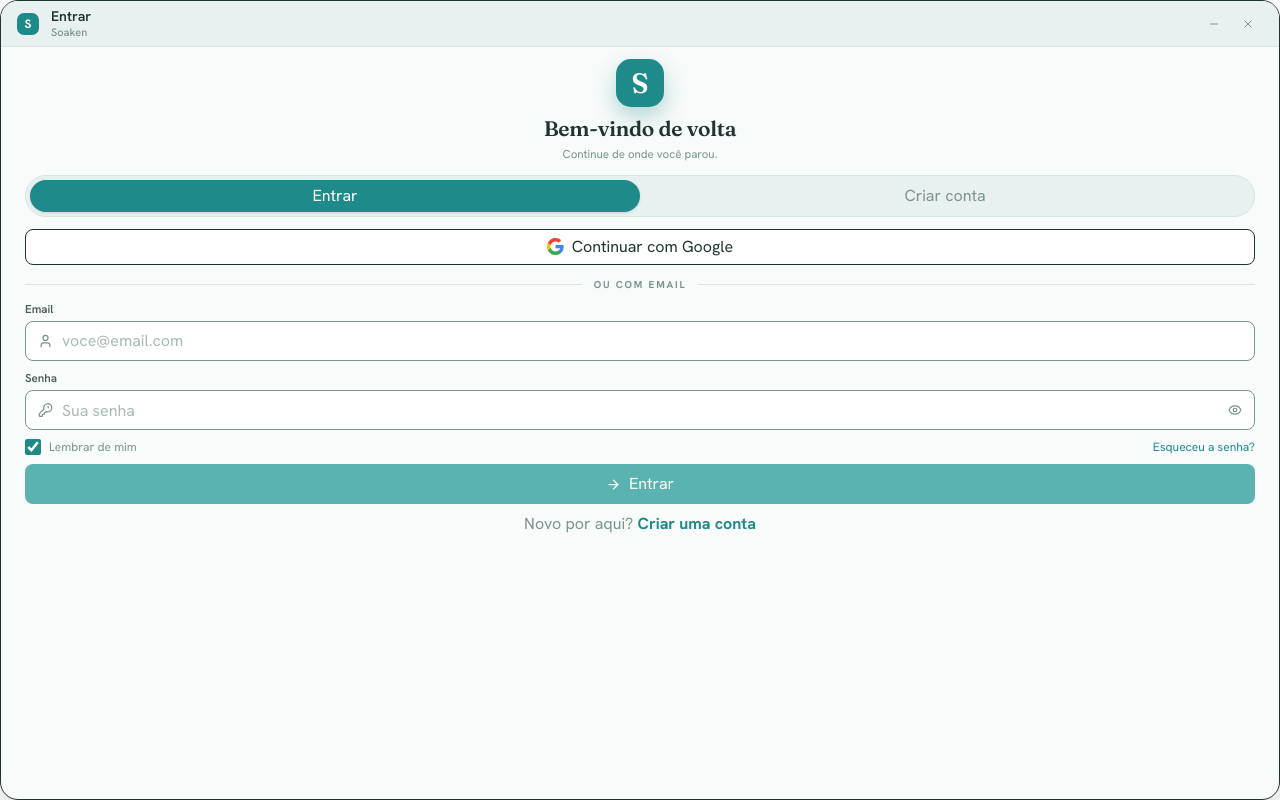
Test: Auth window › cadastro com confirmacao de email nao abre o app antes da confirmacao
This screenshot has width=1280, height=800.
Click the button "Criar conta" at (945, 196), box x1=640 y1=180 x2=1250 y2=212
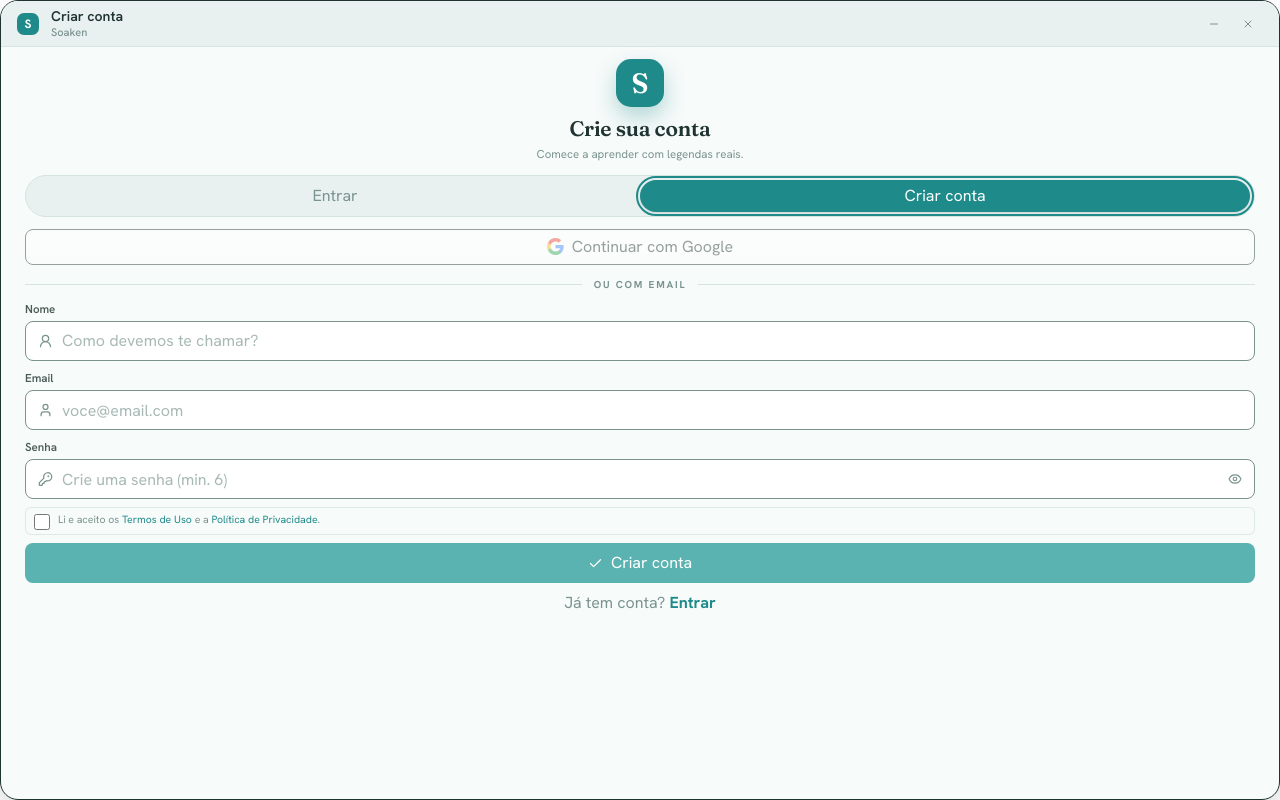
Type "  Joel  " into the field with placeholder "Como devemos te chamar?" at (640, 341), box x1=26 y1=322 x2=1254 y2=360
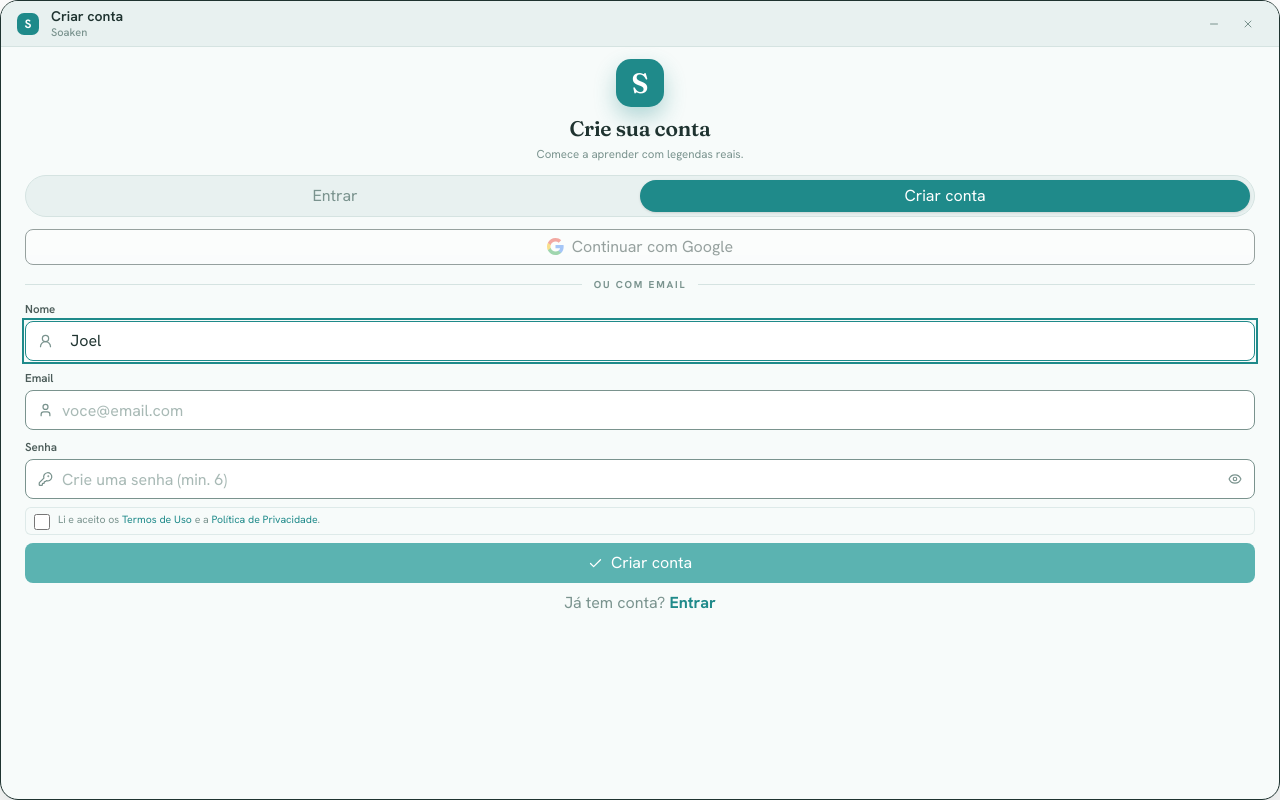
Type "NEW@EXAMPLE.COM " into the field with placeholder "voce@email.com" at (640, 410), box x1=26 y1=391 x2=1254 y2=429
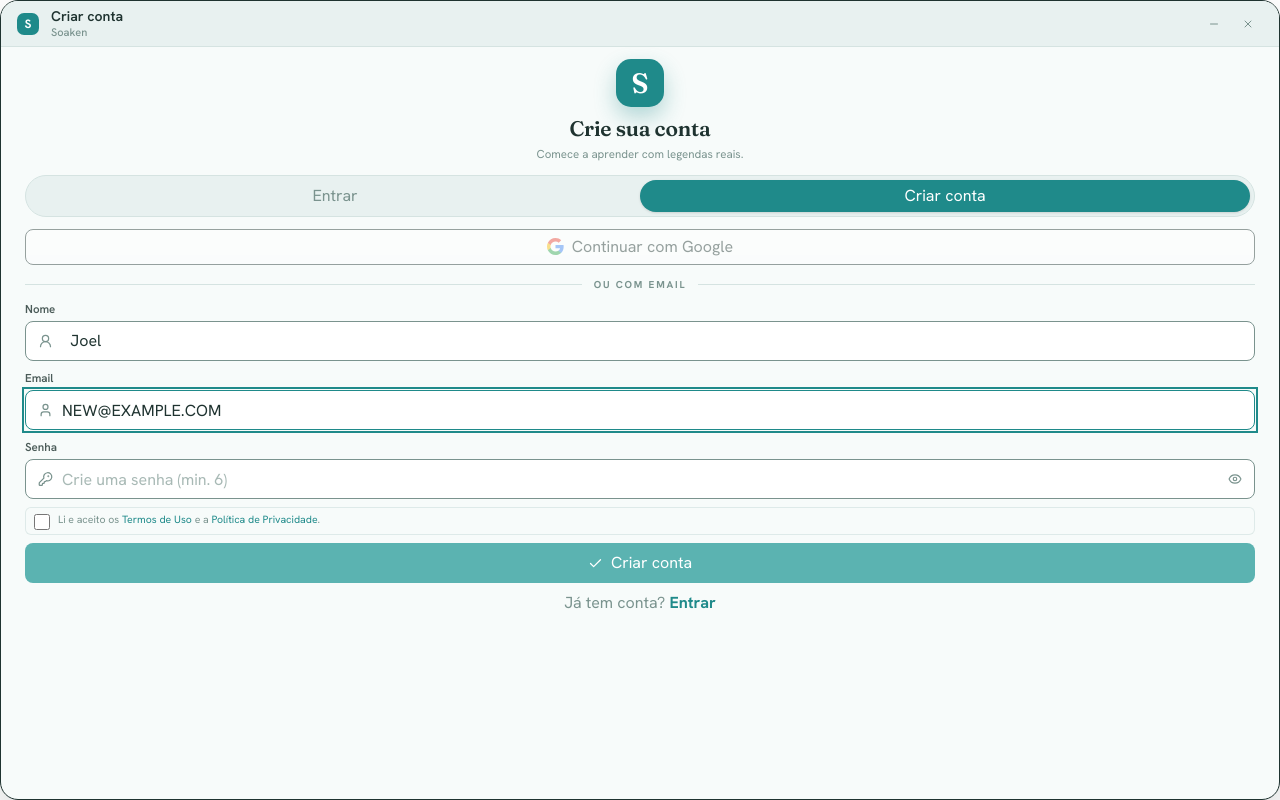
Type "password123" into the password field with placeholder "Crie uma senha (min. 6)" at (640, 479), box x1=26 y1=460 x2=1254 y2=498
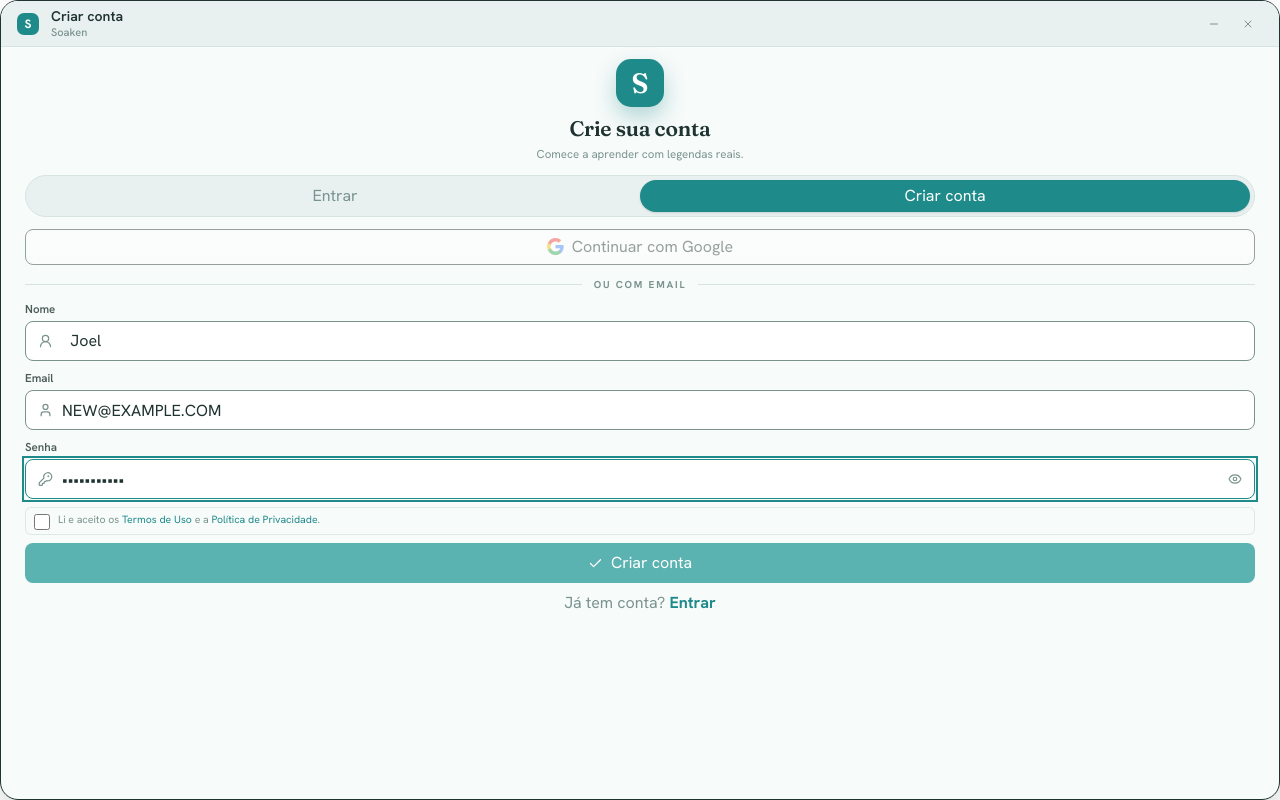
Click the checkbox labelled "Li e aceito os Termos de Uso e a Política de Privacidade ." at (42, 522), box x1=34 y1=514 x2=50 y2=530
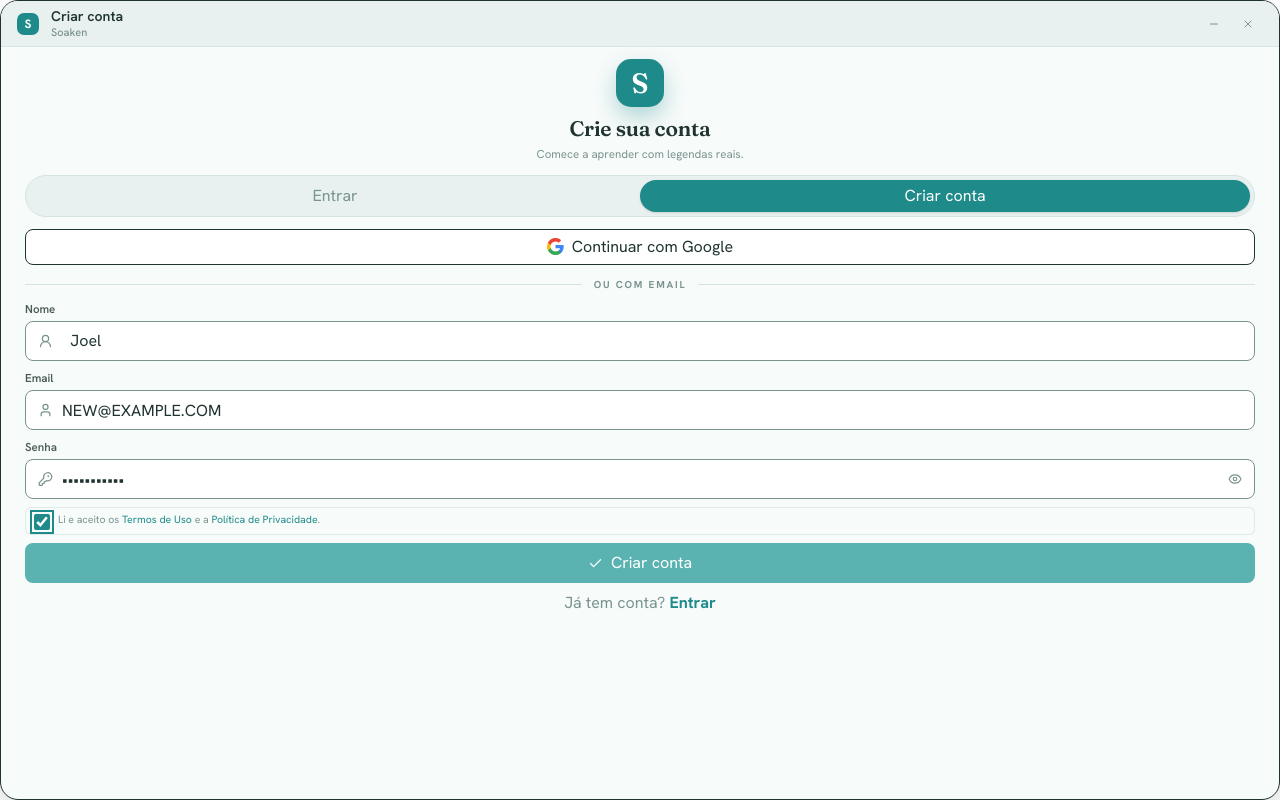
Click the button "Criar conta" below "Li e aceito os" at (640, 563), box x1=25 y1=543 x2=1255 y2=583
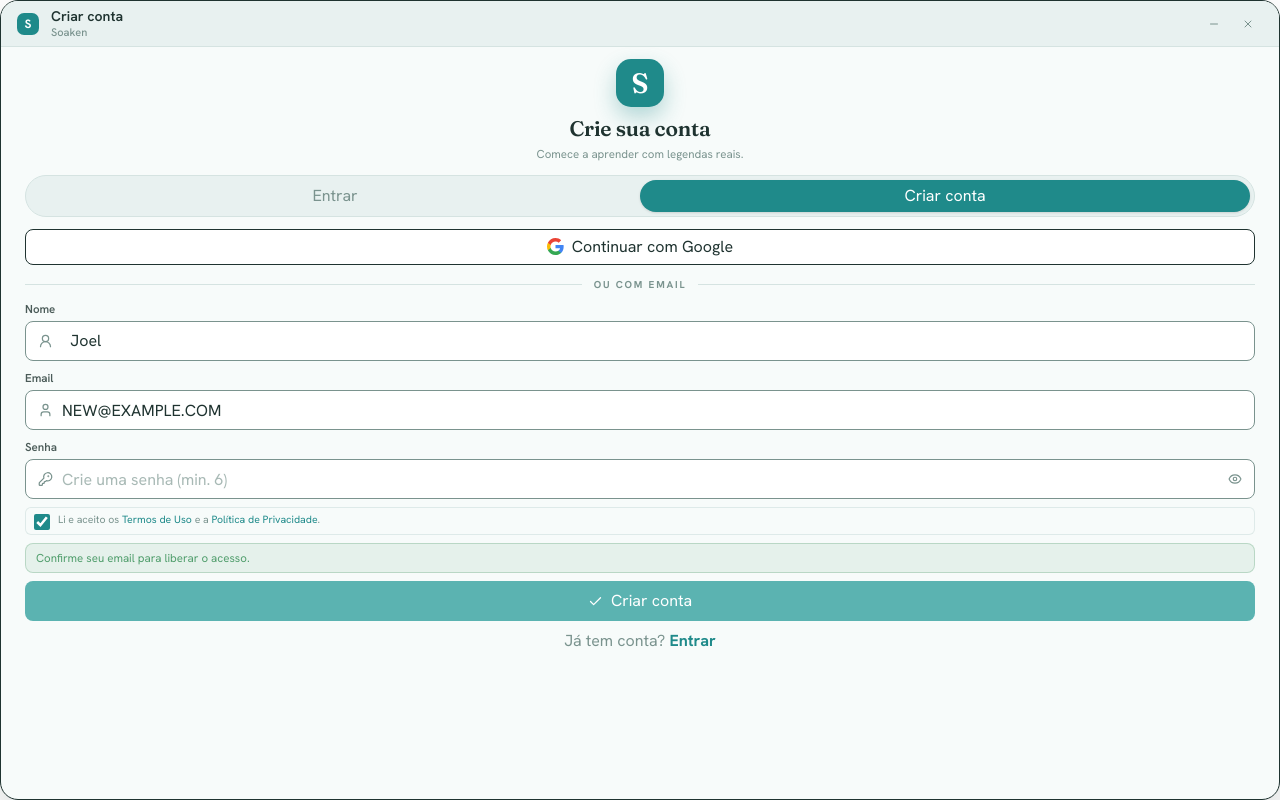
Expected: the text "Confirme seu email para liberar o acesso." is shown, x1=25 y1=543 x2=1255 y2=573
